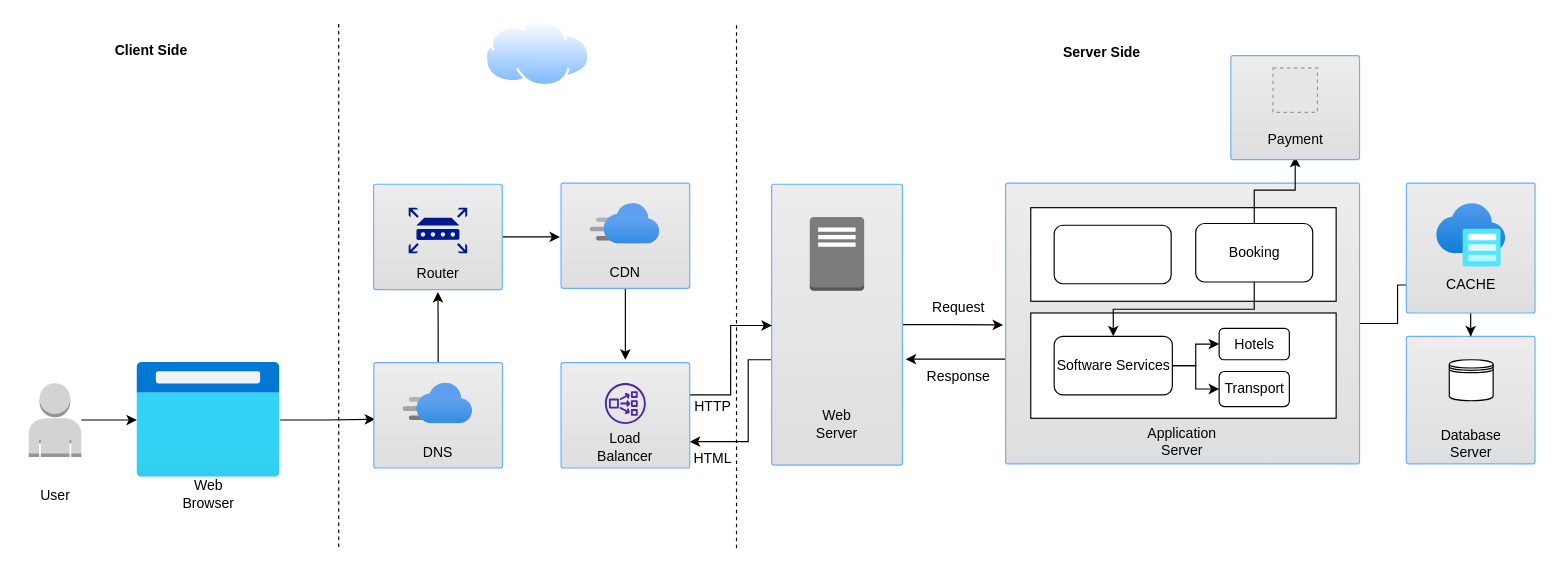
Some shapes in this 1556 by 571 pixel diagram are drawn without their labels. Grey dashed boxes stand in for pictures. The shapes that lost their labels are listed below. From the top down, each one's centre as x and y in pixels, then its label:
At [537,53]: "Internet".
At [1112,254]: "Authentication".
